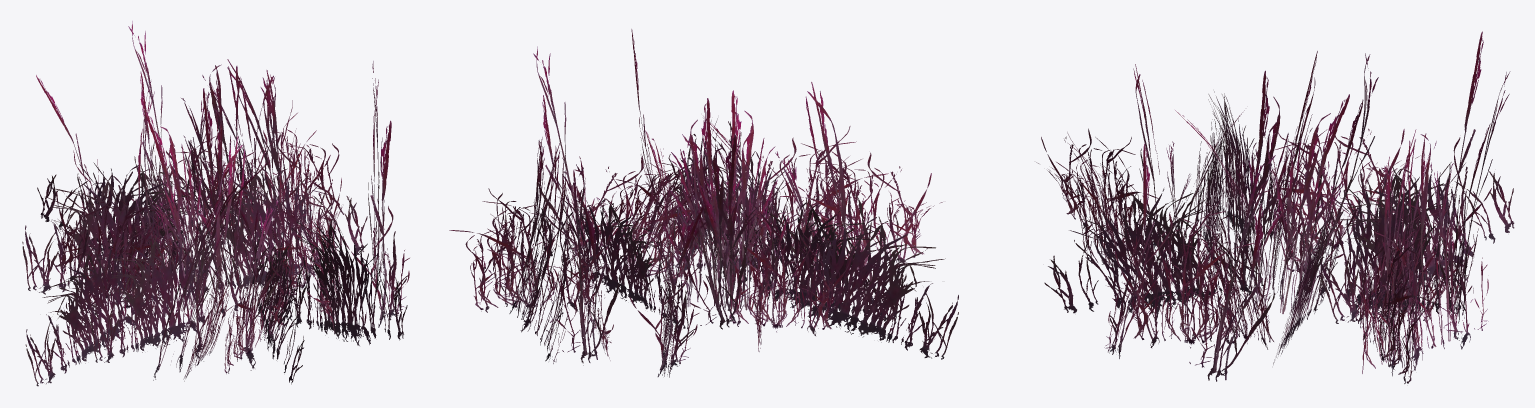
3 views of the same model, side by side, from view 1: azimuth 30°, elevation 25°; view 2: azimuth 150°, elevation 25°; view 3: azimuth 270°, elevation 25° (orthographic). The views are drawn at different scales.
Visible parts, largest first — view 1: SM_GF_WildGrass_01_LOD0; view 2: SM_GF_WildGrass_01_LOD0; view 3: SM_GF_WildGrass_01_LOD0.
Part boxes in pixels (x1=…): SM_GF_WildGrass_01_LOD0: x1=22, y1=21, x2=409, y2=386; SM_GF_WildGrass_01_LOD0: x1=449, y1=29, x2=958, y2=377; SM_GF_WildGrass_01_LOD0: x1=1036, y1=31, x2=1514, y2=383.
Bounding box in the file's own units: 0.8532 × 0.4995 × 0.8259.
1 material, 1 textured.
